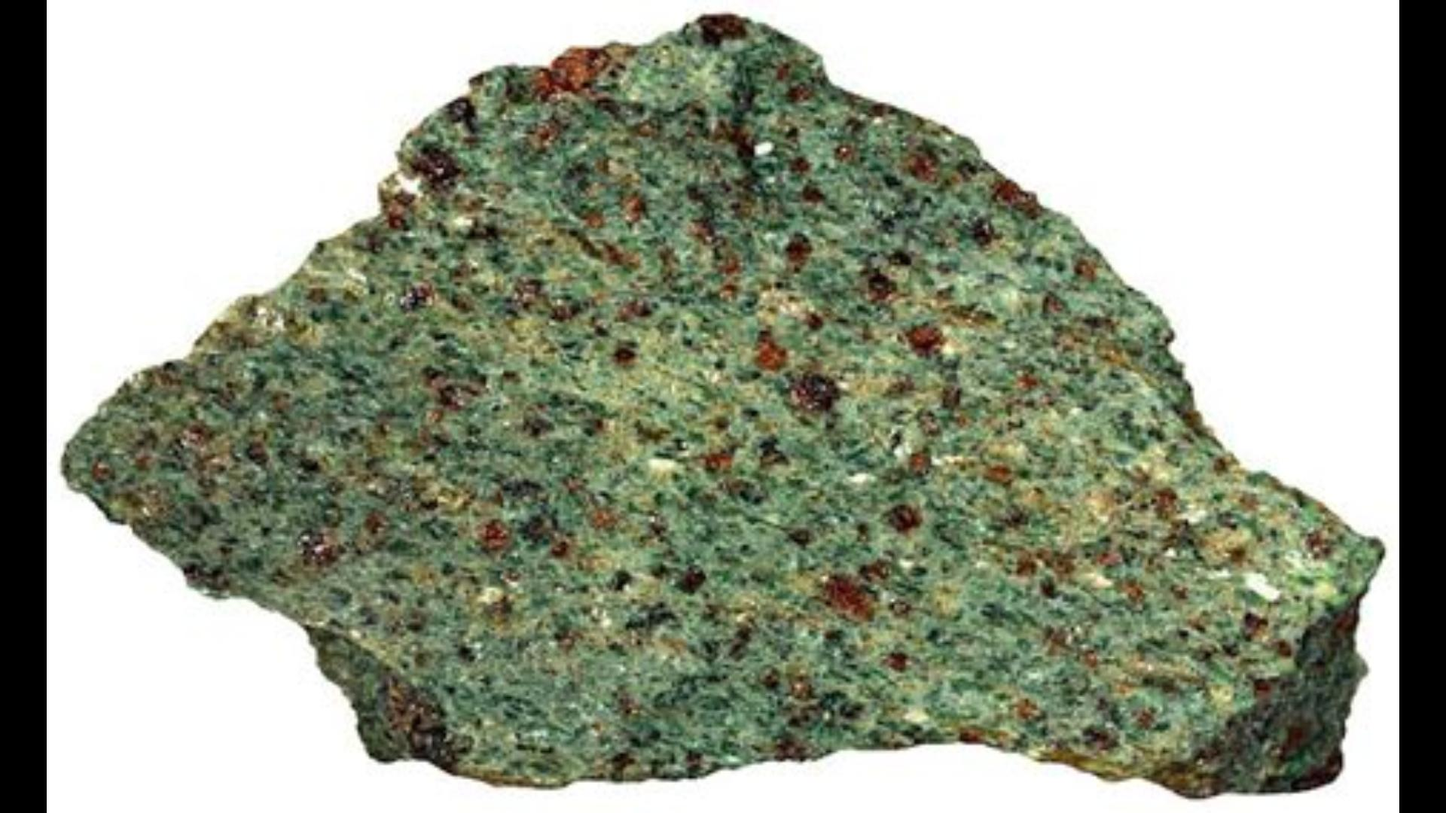rock: (61, 14, 1377, 793)
